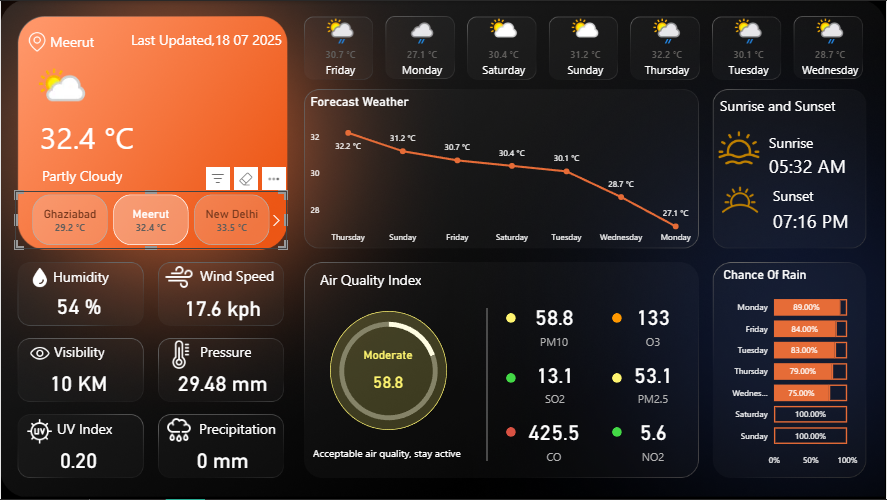

The dashboard page shown, as its layout file describes it:
{"tool":"powerbi","page":{"name":"Page 1","canvas":[1280,720],"ordinal":0},"visuals":[{"type":"donutChart","fields":{"Y":["Sum(Current.current.air_quality.pm10)","_Measures.Left_Value_PM10"]},"box":[462.5,440.3,195.2,188],"z":0},{"type":"shape","box":[475.5,447.6,169.2,172],"z":1000},{"type":"advancedSlicerVisual","fields":{"Values":["Location.location.name"]},"box":[19.8,275.2,393.7,83.6],"z":2000},{"type":"cardVisual","fields":{"Data":["Min(Current.current.condition.icon)"]},"box":[31.9,69.9,145.9,117.1],"z":3000},{"type":"shape","box":[56.4,163.4,164.8,63.6],"z":4000},{"type":"shape","box":[59.3,235.7,198.1,30.4],"z":5000},{"type":"shape","box":[70.8,41.9,107,30.4],"z":6000},{"type":"shape","box":[170.9,39.6,235.7,30.1],"z":7000},{"type":"image","box":[33.3,39,37.6,39],"z":8000},{"type":"shape","box":[75.2,381.7,107,30.4],"z":9000},{"type":"shape","box":[287.7,380.2,128.7,30.4],"z":10000},{"type":"shape","box":[76.6,490.1,107,30.4],"z":11000},{"type":"shape","box":[287.7,490.1,107,30.4],"z":12000},{"type":"shape","box":[286.3,601.4,128.7,30.4],"z":13000},{"type":"shape","box":[81,601.4,107,30.4],"z":14000},{"type":"image","box":[31.8,597.1,47.7,49.2],"z":15000},{"type":"image","box":[36.1,378.8,40.5,41.9],"z":16000},{"type":"image","box":[34.7,485.8,43.4,47.7],"z":17000},{"type":"image","box":[231.3,594.2,52,52],"z":18000},{"type":"image","box":[231.3,485.8,56.4,50.6],"z":19000},{"type":"image","box":[231.3,373,52,52],"z":20000},{"type":"card","fields":{"Values":["_Measures.Humidity"]},"box":[36.1,409.2,151.8,60.7],"z":21000},{"type":"card","fields":{"Values":["_Measures.Wind_Speed"]},"box":[243.7,411.4,151.9,61.7],"z":22000},{"type":"card","fields":{"Values":["_Measures.Pressure"]},"box":[243.7,520.5,151.9,60.1],"z":23000},{"type":"card","fields":{"Values":["_Measures.Visiblity"]},"box":[36.4,520.5,151.9,60.1],"z":24000},{"type":"card","fields":{"Values":["Sum(Current.current.uv)"]},"box":[36.4,631.3,151.9,60.1],"z":25000},{"type":"card","fields":{"Values":["_Measures.Precipition"]},"box":[243.7,631.3,151.9,60.1],"z":26000},{"type":"advancedSlicerVisual","fields":{"Values":["Forecast_Day.Day_Name"]},"box":[430.2,13.7,830,114],"z":27000},{"type":"lineChart","title":"Forecast Weather","fields":{"Y":["Avg(Forecast_Day.forecast.forecastday.day.avgtemp_c)"],"Category":["Forecast_Day.Day_Name"]},"box":[442.4,134.5,569.6,225.5],"z":28000},{"type":"shape","box":[1039.8,133.8,194.6,30.4],"z":29000},{"type":"shape","box":[1109.7,205.2,164.2,63.8],"z":30000},{"type":"shape","box":[1115.8,284.3,164.2,63.8],"z":31000},{"type":"image","box":[1026.5,247.2,83.9,79.5],"z":32000},{"type":"image","box":[1029.4,177.8,75.2,69.4],"z":33000},{"type":"shape","box":[1109.7,188.5,127.7,30.4],"z":34000},{"type":"shape","box":[1115.8,264.5,127.7,30.4],"z":35000},{"type":"hundredPercentStackedBarChart","title":"Chance Of Rain","fields":{"Y":["Sum(Forecast_Day.forecast.forecastday.day.daily_chance_of_rain)","_Measures.Left_Value_Rain"],"Category":["Forecast_Day.Day_Name"]},"box":[1039.5,384.6,203.9,297.8],"z":36000},{"type":"shape","box":[461.2,386,195.2,30.4],"z":37000},{"type":"card","fields":{"Values":["Sum(Current.current.air_quality.o3)"]},"box":[865.6,428,153.3,78.1],"z":38000},{"type":"card","fields":{"Values":["Sum(Current.current.air_quality.pm2_5)"]},"box":[865.6,506,153.3,88.2],"z":39000},{"type":"card","fields":{"Values":["Sum(Current.current.air_quality.no2)"]},"box":[865.6,594.2,153.3,78.1],"z":40000},{"type":"card","fields":{"Values":["Sum(Current.current.air_quality.so2)"]},"box":[723.8,506,153.3,88.2],"z":41000},{"type":"card","fields":{"Values":["Sum(Current.current.air_quality.pm10)"]},"box":[722.3,428,153.3,78.1],"z":42000},{"type":"card","fields":{"Values":["Sum(Current.current.air_quality.co)"]},"box":[722.3,594.2,153.3,78.1],"z":43000},{"type":"shape","box":[729.6,451.1,14.5,14.5],"z":44000},{"type":"shape","box":[882.9,615.9,14.5,14.5],"z":45000},{"type":"shape","box":[882.9,537.8,14.5,14.5],"z":46000},{"type":"shape","box":[882.9,451.1,14.5,14.5],"z":47000},{"type":"shape","box":[729.6,615.9,14.5,14.5],"z":48000},{"type":"shape","box":[729.6,537.8,14.5,14.5],"z":49000},{"type":"shape","box":[689.6,443.9,26,221.2],"z":50000},{"type":"card","fields":{"Values":["Sum(Current.current.air_quality.pm10)"]},"box":[500.1,501.1,118.6,78.1],"z":51000},{"type":"shape","box":[451.1,634.7,253,37.6],"z":52000}]}

Visuals, with their boxes in screenshot pixels (x1, y1, x2, y2), scaled from the page's 1280x720 canvas onto the 887x500 screenshot:
donutChart - Sum(Current.current.air_quality.pm10) x _Measures.Left_Value_PM10: select_region(320, 306, 456, 436)
shape: select_region(330, 311, 447, 430)
advancedSlicerVisual - Location.location.name: select_region(14, 191, 287, 249)
cardVisual - Min(Current.current.condition.icon): select_region(22, 49, 123, 130)
shape: select_region(39, 113, 153, 158)
shape: select_region(41, 164, 178, 185)
shape: select_region(49, 29, 123, 50)
shape: select_region(118, 28, 282, 48)
image: select_region(23, 27, 49, 54)
shape: select_region(52, 265, 126, 286)
shape: select_region(199, 264, 289, 285)
shape: select_region(53, 340, 127, 361)
shape: select_region(199, 340, 274, 361)
shape: select_region(198, 418, 288, 439)
shape: select_region(56, 418, 130, 439)
image: select_region(22, 415, 55, 449)
image: select_region(25, 263, 53, 292)
image: select_region(24, 337, 54, 370)
image: select_region(160, 413, 196, 449)
image: select_region(160, 337, 199, 372)
image: select_region(160, 259, 196, 295)
card - _Measures.Humidity: select_region(25, 284, 130, 326)
card - _Measures.Wind_Speed: select_region(169, 286, 274, 329)
card - _Measures.Pressure: select_region(169, 361, 274, 403)
card - _Measures.Visiblity: select_region(25, 361, 130, 403)
card - Sum(Current.current.uv): select_region(25, 438, 130, 480)
card - _Measures.Precipition: select_region(169, 438, 274, 480)
advancedSlicerVisual - Forecast_Day.Day_Name: select_region(298, 10, 873, 89)
"Forecast Weather" lineChart: select_region(307, 93, 701, 250)
shape: select_region(721, 93, 855, 114)
shape: select_region(769, 142, 883, 187)
shape: select_region(773, 197, 886, 242)
image: select_region(711, 172, 769, 227)
image: select_region(713, 123, 765, 172)
shape: select_region(769, 131, 857, 152)
shape: select_region(773, 184, 862, 205)
"Chance Of Rain" hundredPercentStackedBarChart: select_region(720, 267, 862, 474)
shape: select_region(320, 268, 455, 289)
card - Sum(Current.current.air_quality.o3): select_region(600, 297, 706, 351)
card - Sum(Current.current.air_quality.pm2_5): select_region(600, 351, 706, 413)
card - Sum(Current.current.air_quality.no2): select_region(600, 413, 706, 467)
card - Sum(Current.current.air_quality.so2): select_region(502, 351, 608, 413)
card - Sum(Current.current.air_quality.pm10): select_region(501, 297, 607, 351)
card - Sum(Current.current.air_quality.co): select_region(501, 413, 607, 467)
shape: select_region(506, 313, 516, 323)
shape: select_region(612, 428, 622, 438)
shape: select_region(612, 373, 622, 384)
shape: select_region(612, 313, 622, 323)
shape: select_region(506, 428, 516, 438)
shape: select_region(506, 373, 516, 384)
shape: select_region(478, 308, 496, 462)
card - Sum(Current.current.air_quality.pm10): select_region(347, 348, 429, 402)
shape: select_region(313, 441, 488, 467)
